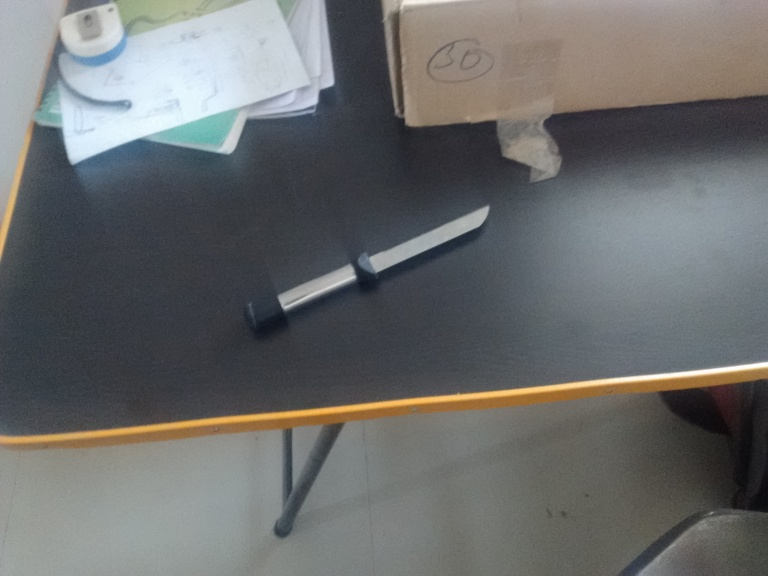knife: (242, 202, 492, 334)
